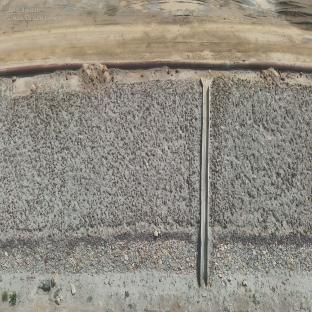rock_toe: (0, 234, 199, 276), (209, 236, 312, 277)
slope_drain: (198, 77, 213, 287)
